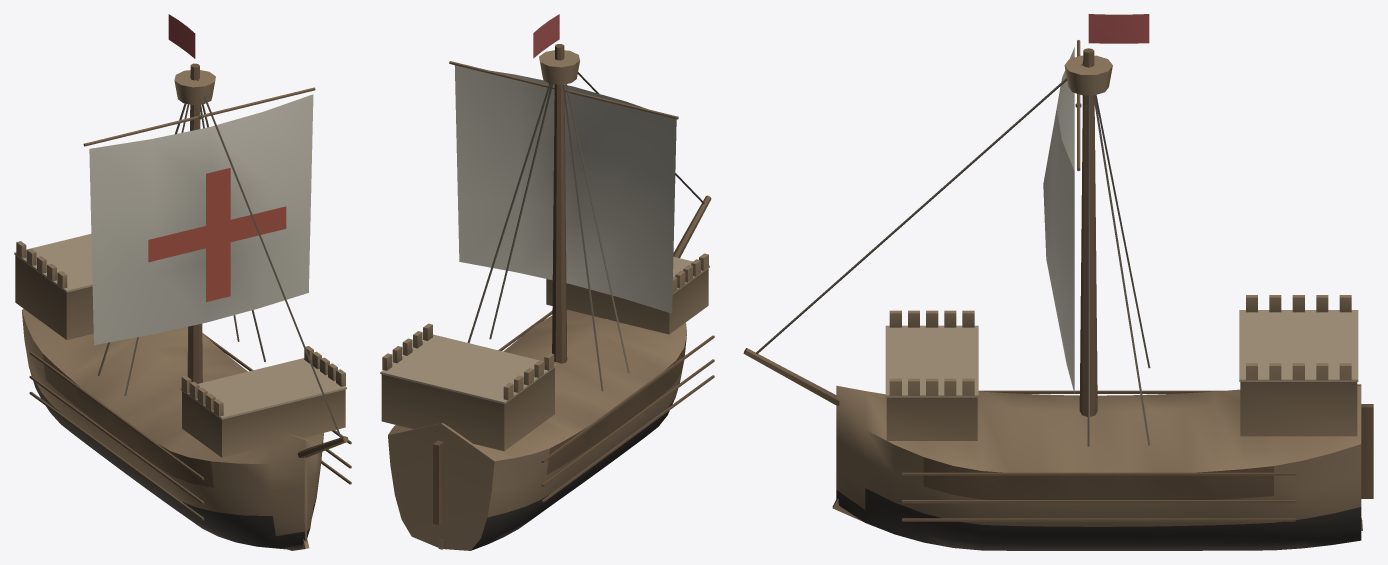
Rendered from cog.glb.
3 views of the same model, side by side, from view 1: azimuth 30°, elevation 25°; view 2: azimuth 150°, elevation 25°; view 3: azimuth 270°, elevation 25° (orthographic). The views are drawn at different scales.
Visible parts, largest first — view 1: Body; view 2: Body; view 3: Body.
Boxes of the visible parts, x1=… form: Body: x1=14, y1=14, x2=351, y2=550; Body: x1=380, y1=14, x2=714, y2=550; Body: x1=743, y1=14, x2=1373, y2=550.
Size of the model in its own units: 1.5 by 2.84 by 3.12.
